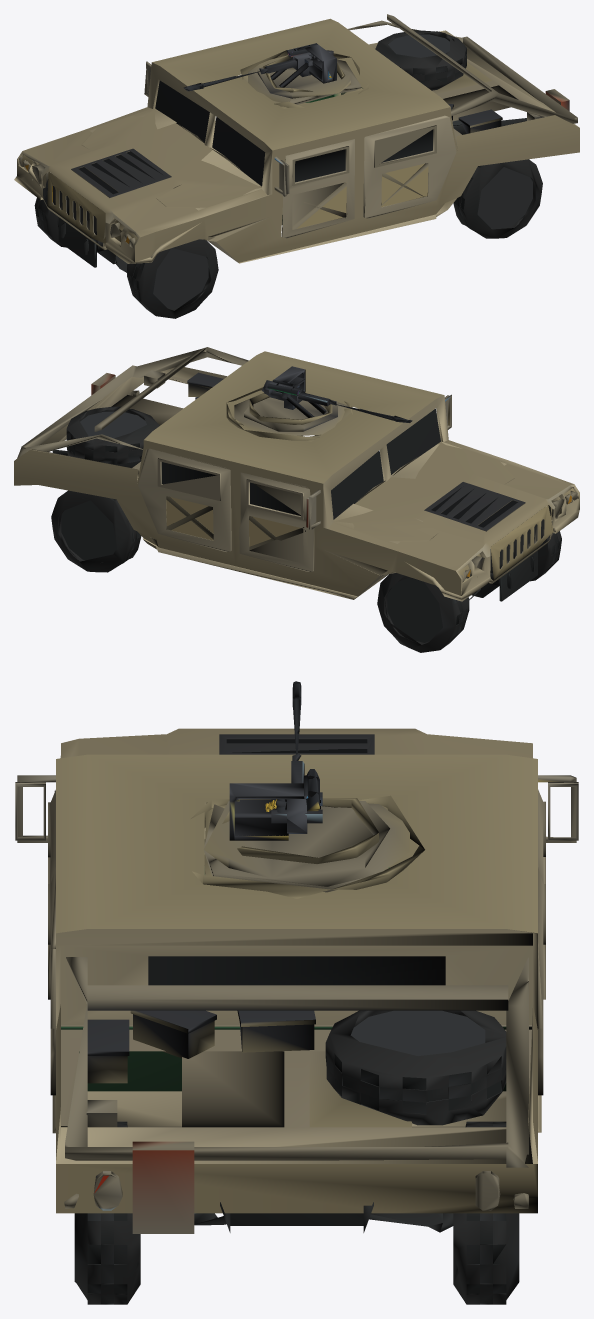
The model's file is humvee.glb.
3 views of the same model, one above another, from view 1: azimuth 30°, elevation 25°; view 2: azimuth 150°, elevation 25°; view 3: azimuth 270°, elevation 25° (orthographic). The views are drawn at different scales.
Size of the model in its own units: 4.11 by 1.61 by 2.2.
